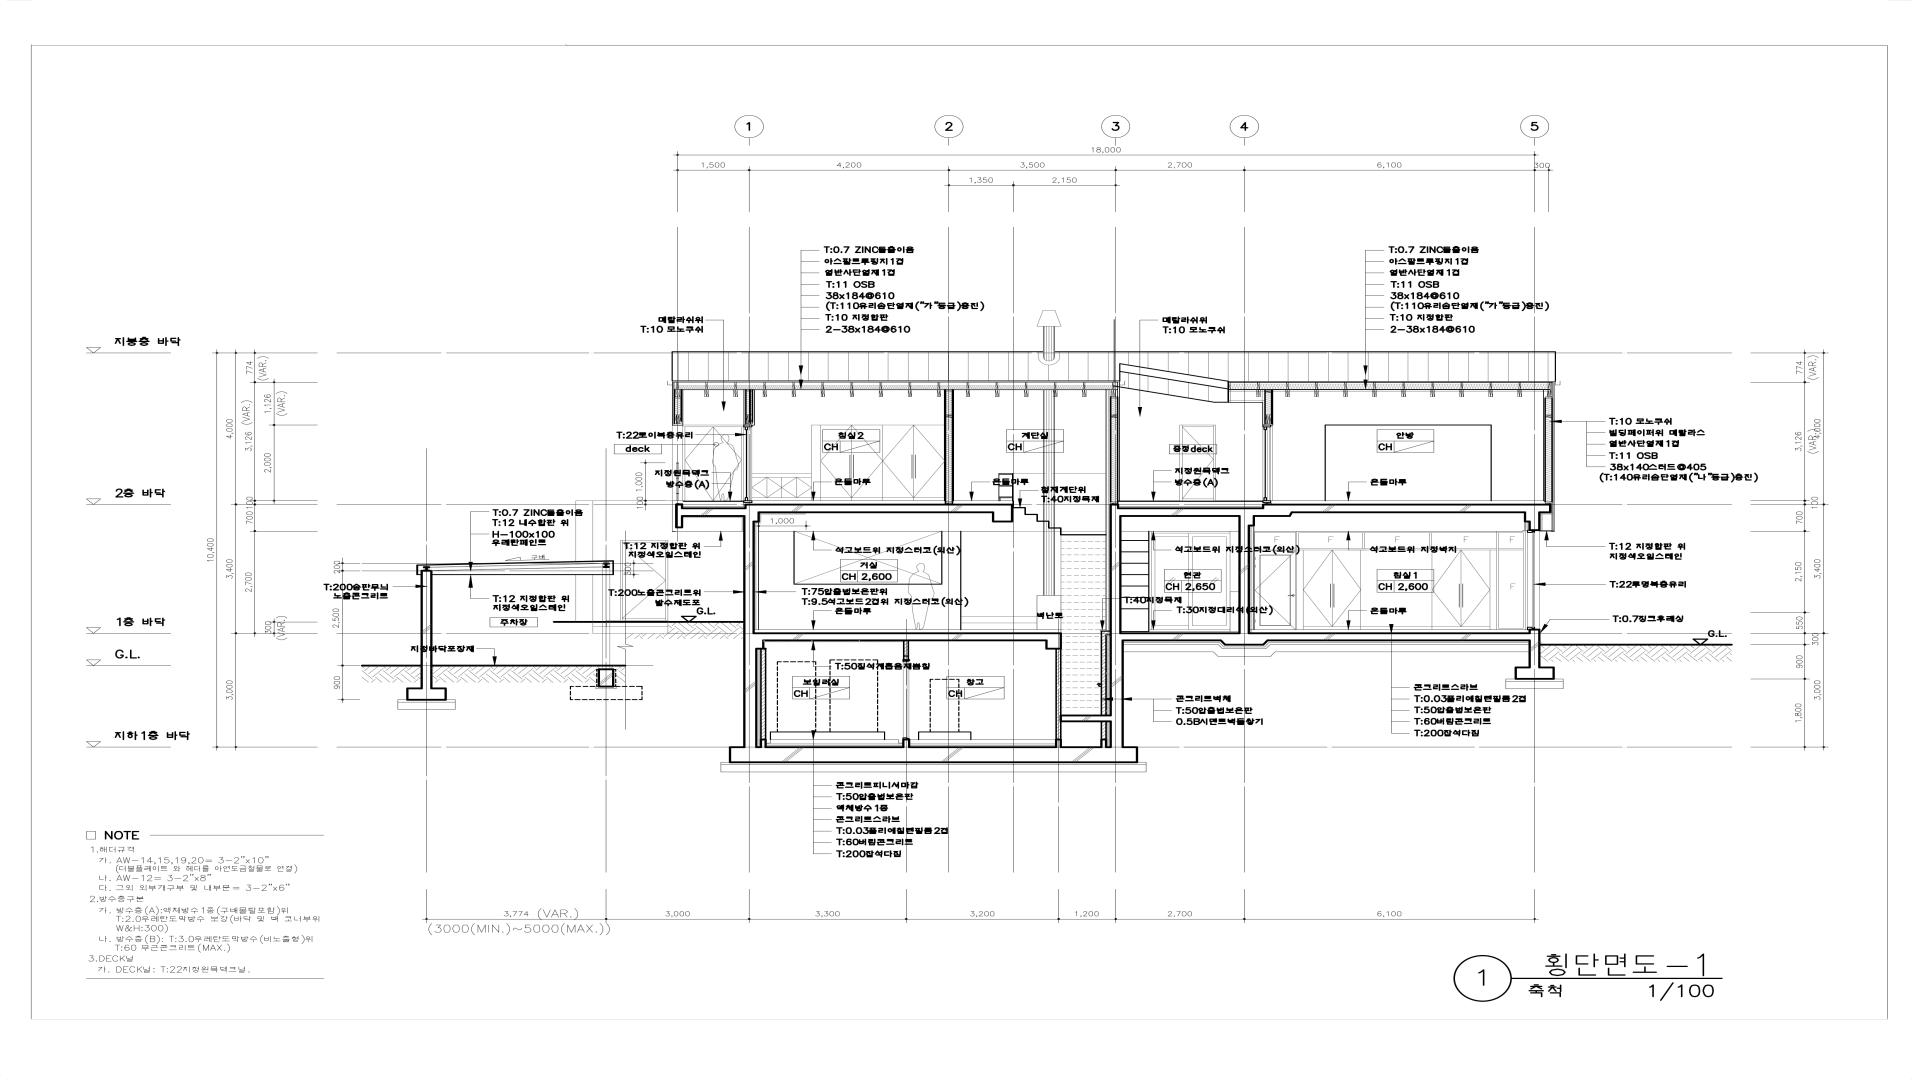door: (1151, 531, 1230, 631), (1254, 531, 1296, 630), (620, 540, 668, 620), (1180, 425, 1216, 501), (1262, 425, 1272, 504), (903, 662, 909, 739)
wall: (729, 746, 1138, 763), (673, 382, 1118, 390), (1262, 504, 1524, 517), (1119, 372, 1228, 403), (416, 560, 614, 575), (1119, 363, 1228, 389), (1268, 632, 1528, 642), (1228, 382, 1550, 390), (764, 632, 1045, 641), (744, 504, 992, 513), (1109, 507, 1262, 517), (420, 570, 433, 687), (1109, 517, 1122, 632), (743, 650, 758, 746), (743, 523, 755, 632), (1238, 526, 1250, 632), (1110, 632, 1124, 715), (944, 390, 954, 504), (1110, 396, 1119, 504), (1544, 396, 1553, 504), (1124, 632, 1220, 641), (602, 575, 610, 668), (1220, 632, 1268, 646), (1055, 650, 1062, 739), (683, 507, 744, 517), (406, 687, 447, 701), (1515, 666, 1555, 680), (760, 650, 766, 739), (1062, 714, 1124, 722), (1528, 629, 1541, 667), (1101, 635, 1107, 715), (992, 504, 1014, 523), (743, 632, 765, 650), (744, 390, 755, 425), (673, 390, 683, 426), (1110, 722, 1124, 746), (598, 668, 615, 687), (1264, 390, 1273, 425), (1045, 632, 1062, 650), (1524, 504, 1540, 522), (675, 504, 683, 528), (743, 513, 760, 523), (1238, 517, 1255, 526), (903, 641, 909, 662), (1528, 522, 1540, 531), (1101, 722, 1107, 739), (1540, 504, 1551, 513), (1547, 382, 1552, 397), (902, 739, 910, 746), (1100, 739, 1107, 746), (1055, 739, 1062, 746), (760, 739, 767, 746), (1101, 630, 1110, 635), (1109, 504, 1119, 507), (1111, 390, 1116, 396)
window: (793, 531, 942, 585), (1527, 531, 1540, 629), (743, 425, 753, 504)
